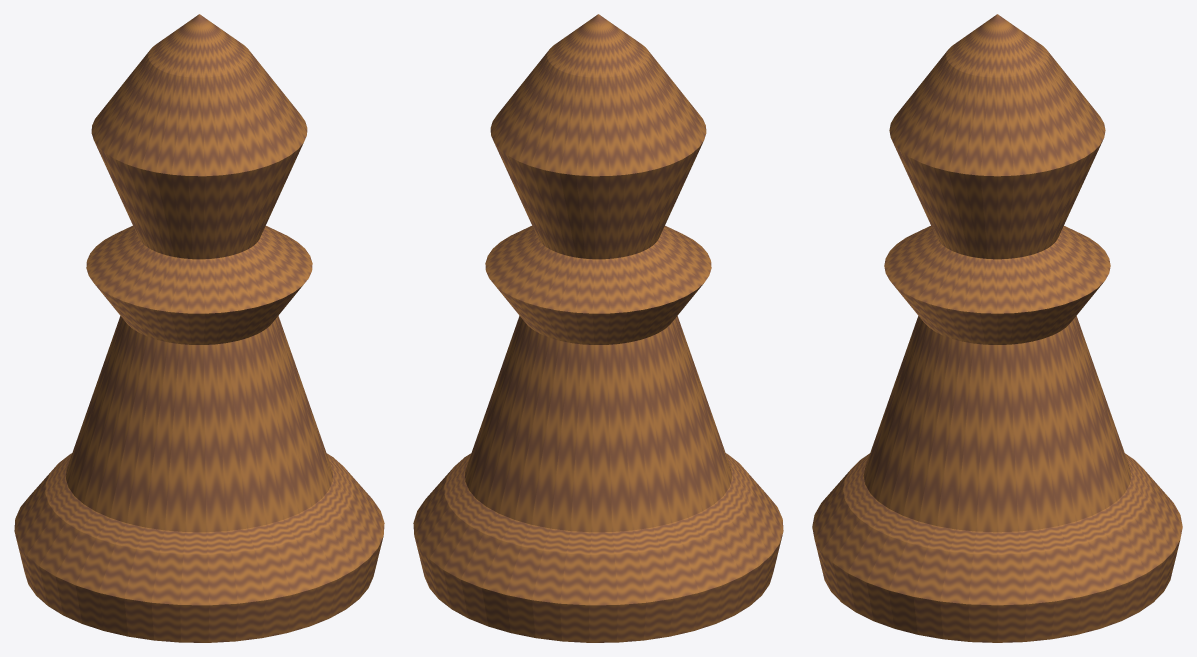
The model's file is bishop_ivory.obj.
3 views of the same model, side by side, from view 1: azimuth 30°, elevation 25°; view 2: azimuth 150°, elevation 25°; view 3: azimuth 270°, elevation 25° (orthographic).
Size of the model in its own units: 0.72 by 1.19 by 0.72.
Materials: 1 (1 with a texture image).
